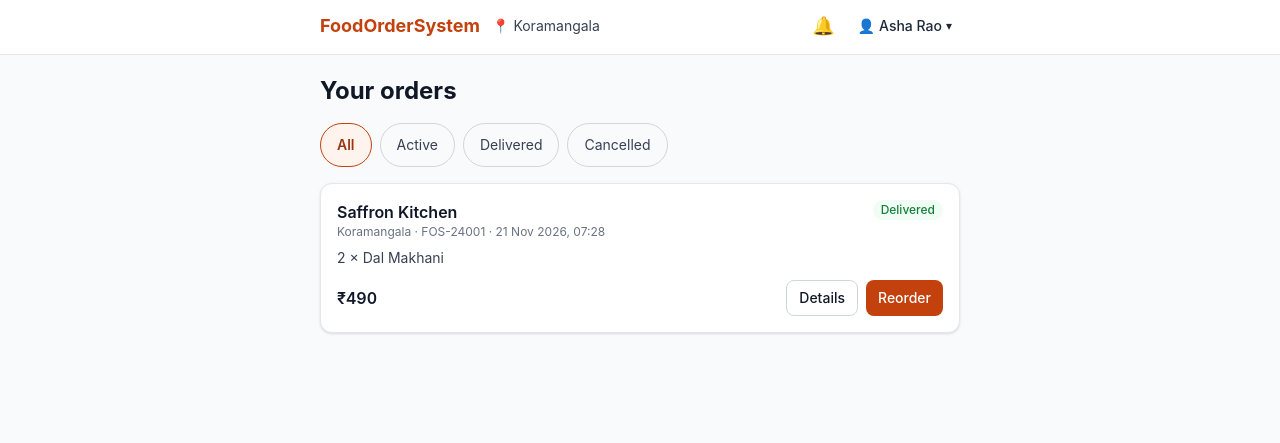
Test: customer account area › reorders and says which items were unavailable
This screenshot has width=1280, height=443.
Click the button with aria-label "Reorder FOS-24001" at (904, 298), box left=866, top=280, right=943, bottom=316
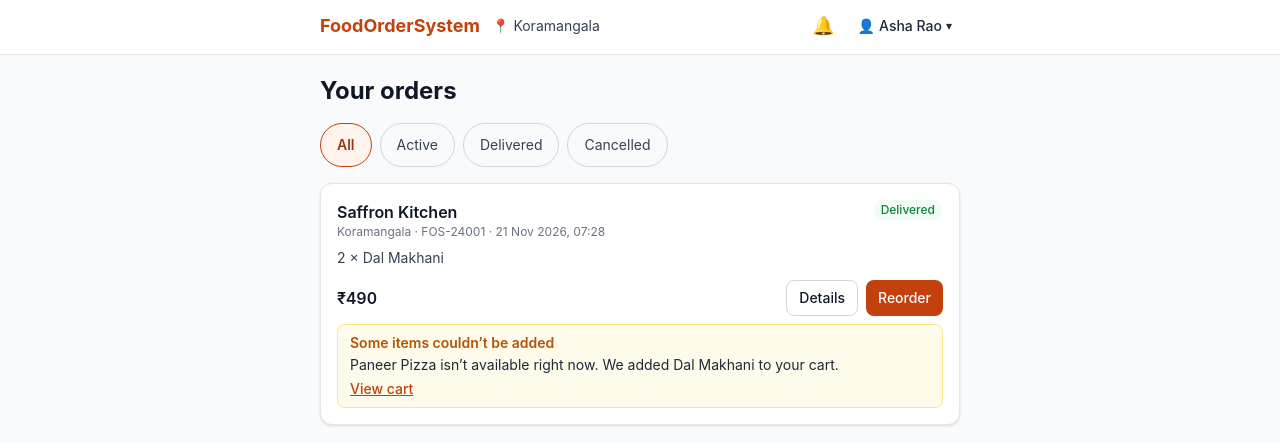
Expected: the message shows "Paneer Pizza isn’t available right now.", left=337, top=324, right=943, bottom=408
Expected: the message shows "We added Dal Makhani to your cart.", left=598, top=356, right=839, bottom=373
